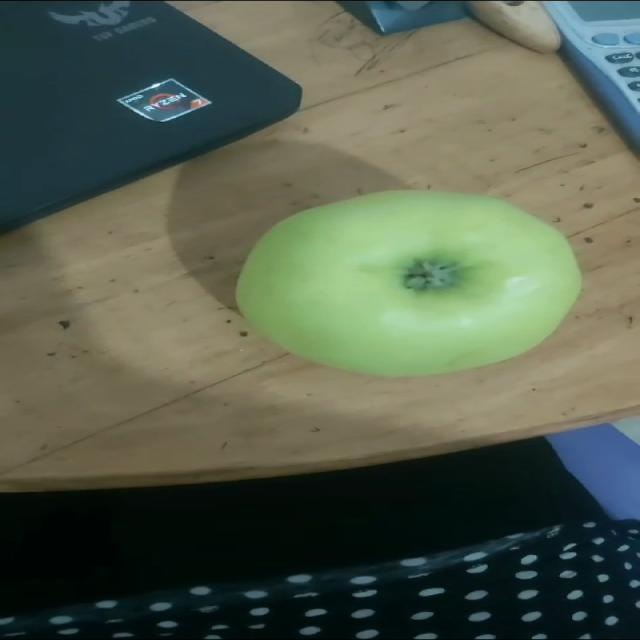50-_ripeness: (235, 190, 580, 377)
